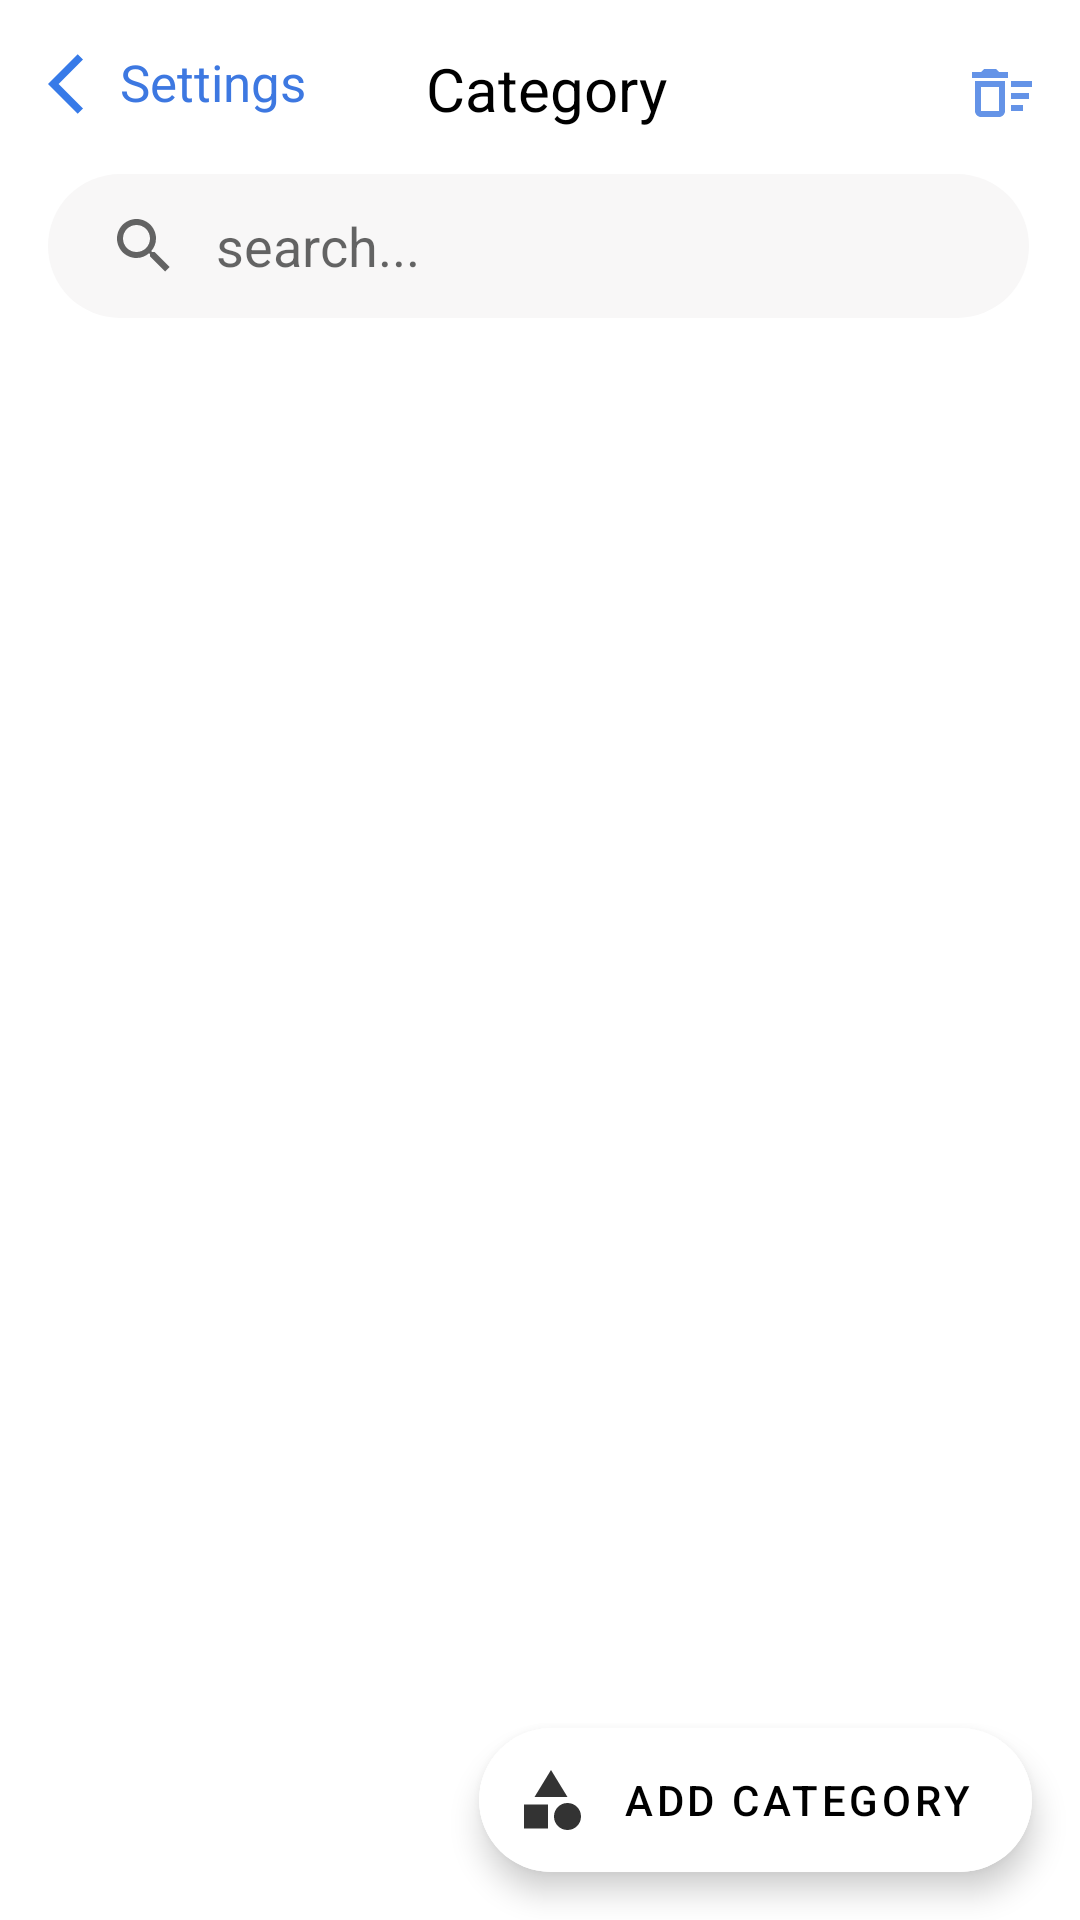

Icons on this 1080 × 1920 Android screen, each with the point to tap as point (x, y):
back: point (65, 84)
delete all: point (1002, 93)
